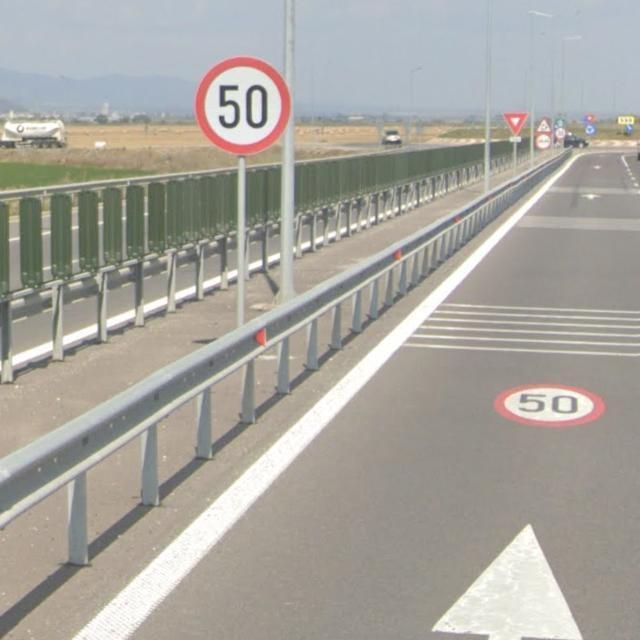forb_overtake: (535, 134, 553, 150)
forb_speed_over_50: (194, 58, 292, 157), (493, 381, 606, 429)
prio_give_way: (503, 111, 529, 135)
